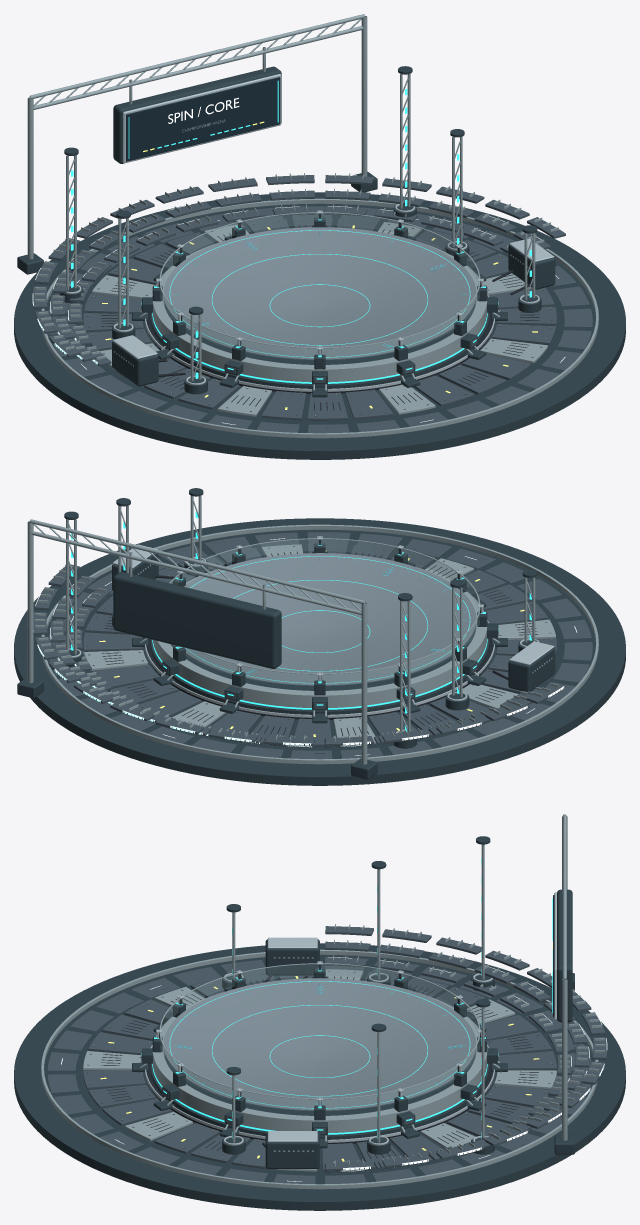
File: championship.glb
3 renders of one model, top to bottom at view 1: azimuth 30°, elevation 25°; view 2: azimuth 150°, elevation 25°; view 3: azimuth 270°, elevation 25°, orthographic.
Visible parts, largest first — view 1: Graphite, Deck_graphite_enamel, Brushed_aluminium, Arena_satin_titanium, Championship_display_ink, Acrylic_guard, Edge_polished_aluminium, Energy_cyan, Isolator_rubber, Championship_ice_lettering; view 2: Graphite, Deck_graphite_enamel, Brushed_aluminium, Arena_satin_titanium, Acrylic_guard, Edge_polished_aluminium, Energy_cyan, Isolator_rubber, Championship_ice_lettering; view 3: Graphite, Deck_graphite_enamel, Arena_satin_titanium, Brushed_aluminium, Acrylic_guard, Edge_polished_aluminium, Energy_cyan, Isolator_rubber, Championship_ice_lettering.
Part boxes in pixels (x1,y1,x2,y2): Graphite: (14, 66, 625, 459); Deck_graphite_enamel: (32, 175, 592, 433); Brushed_aluminium: (27, 14, 598, 438); Arena_satin_titanium: (163, 227, 476, 359); Championship_display_ink: (126, 77, 280, 161); Acrylic_guard: (160, 213, 479, 359); Edge_polished_aluminium: (66, 74, 554, 415); Energy_cyan: (71, 80, 531, 383); Isolator_rubber: (87, 213, 552, 427); Championship_ice_lettering: (32, 97, 565, 424); Graphite: (14, 488, 625, 785); Deck_graphite_enamel: (33, 532, 592, 759); Brushed_aluminium: (27, 495, 598, 764); Arena_satin_titanium: (184, 553, 476, 685); Acrylic_guard: (171, 539, 479, 685); Edge_polished_aluminium: (69, 536, 554, 733); Energy_cyan: (71, 512, 531, 731); Isolator_rubber: (87, 534, 552, 753); Championship_ice_lettering: (33, 538, 577, 755); Graphite: (14, 836, 625, 1210); Deck_graphite_enamel: (47, 926, 607, 1183); Arena_satin_titanium: (163, 978, 476, 1110); Brushed_aluminium: (41, 814, 605, 1189); Acrylic_guard: (160, 964, 479, 1110); Edge_polished_aluminium: (88, 892, 556, 1160); Energy_cyan: (141, 858, 552, 1138); Isolator_rubber: (87, 964, 552, 1177); Championship_ice_lettering: (61, 926, 607, 1181).
Bounding box in the file's own units: 27 × 9.06 × 27.
